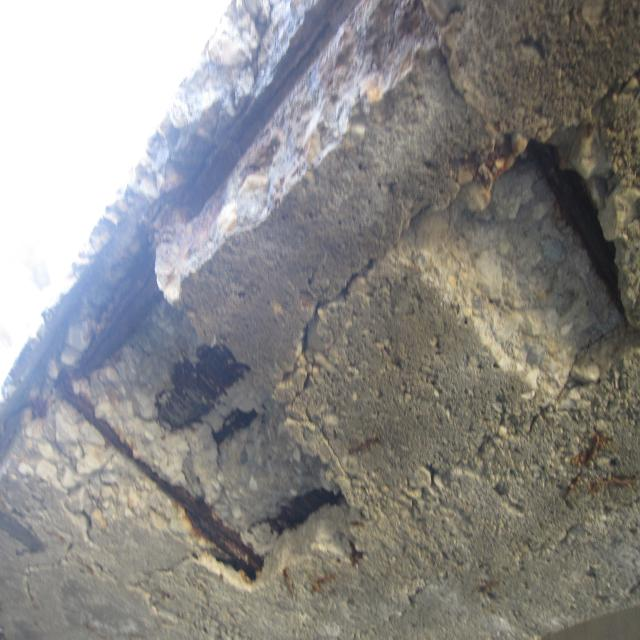corrosion: (0, 0, 382, 585), (560, 427, 634, 510), (475, 570, 507, 611)
